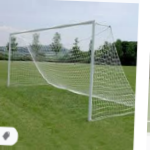goals: (5, 18, 134, 125)
